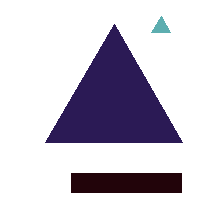rectangle: (71, 173, 181, 192)
triangle: (45, 24, 182, 142), (151, 16, 170, 32)
